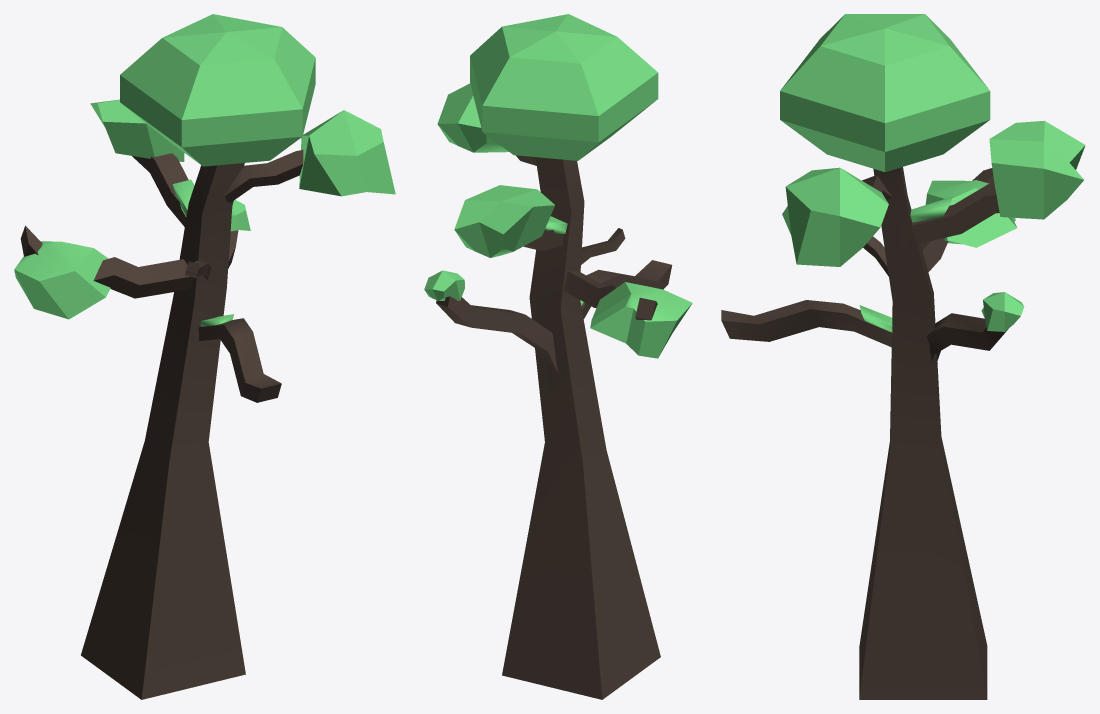
The model's file is Tree_2.fbx.
3 views of the same model, side by side, from view 1: azimuth 30°, elevation 25°; view 2: azimuth 150°, elevation 25°; view 3: azimuth 270°, elevation 25° (orthographic). The views are drawn at different scales.
Parts seen in each view (by area): view 1: pCube30; view 2: pCube30; view 3: pCube30.
Part boxes in pixels (box(x1,y1,x2,y2)): pCube30: box(14, 14, 395, 699); pCube30: box(424, 14, 692, 699); pCube30: box(721, 14, 1085, 699).
Bounding box in the file's own units: 803 × 1613 × 797.
